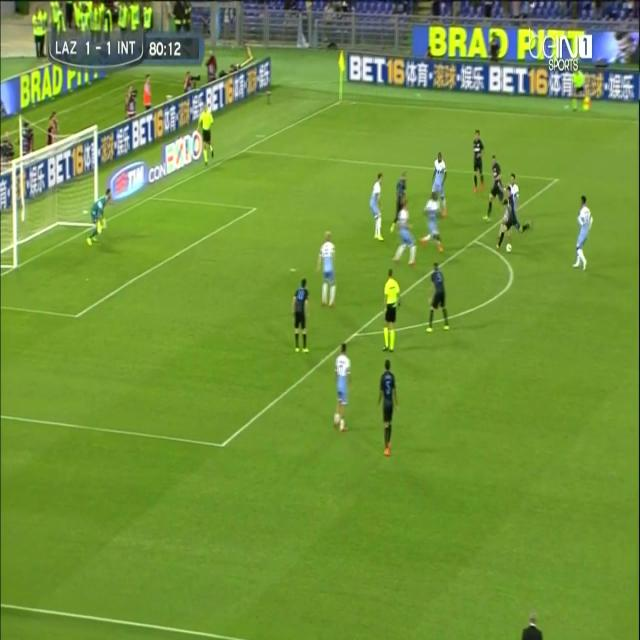Ball: (503, 242, 515, 257)
Goalkeeper: (83, 186, 114, 248)
Player: (495, 187, 530, 251), (377, 359, 399, 459), (424, 258, 451, 339), (333, 341, 353, 432), (392, 202, 418, 272), (571, 194, 594, 271), (316, 230, 338, 310), (289, 276, 311, 355), (482, 152, 506, 224), (419, 191, 446, 253), (388, 172, 411, 234), (367, 171, 386, 244), (470, 128, 487, 198), (431, 150, 449, 200), (508, 172, 521, 208)
Referee: (381, 264, 402, 358), (195, 99, 217, 169), (568, 65, 588, 114)
